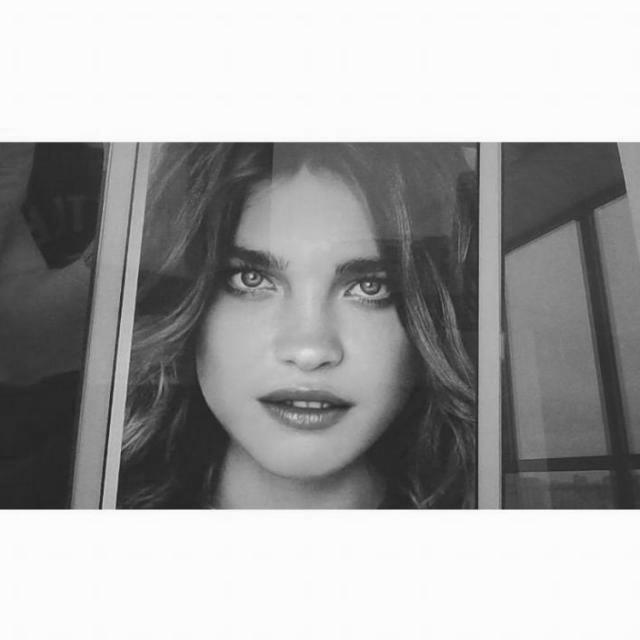fake: (66, 142, 506, 510)
